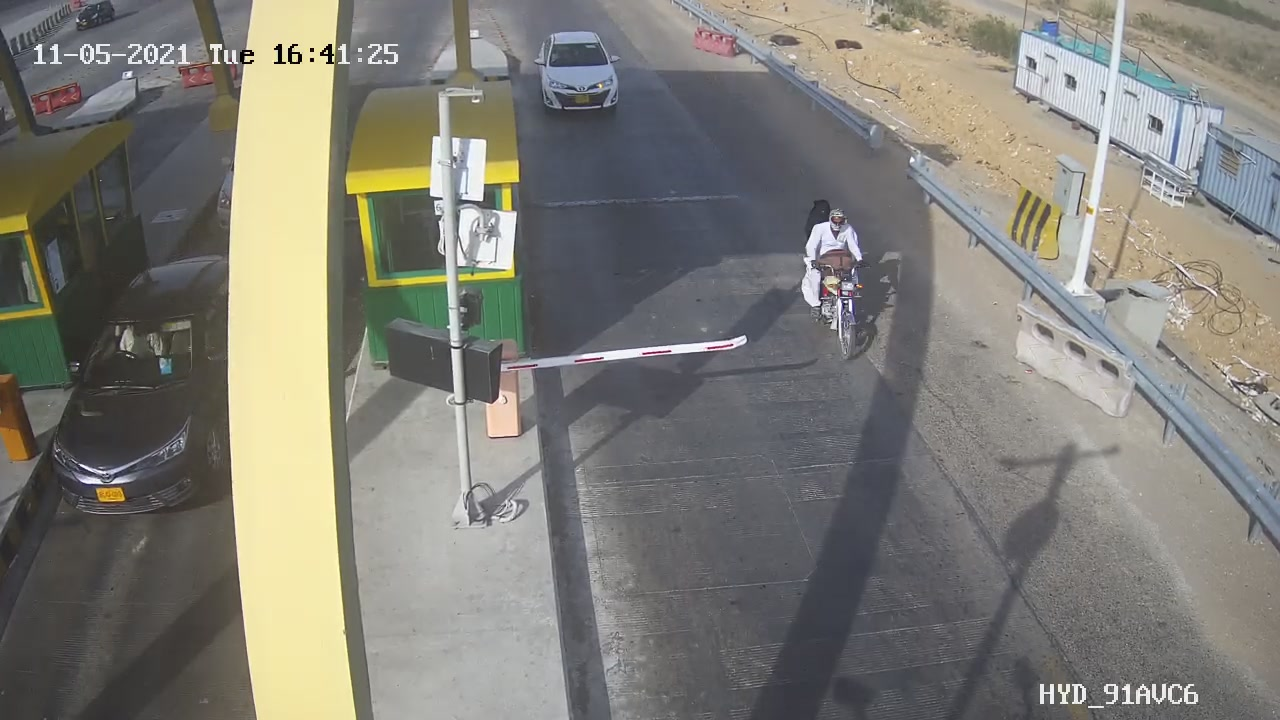F1: (522, 18, 638, 127)
